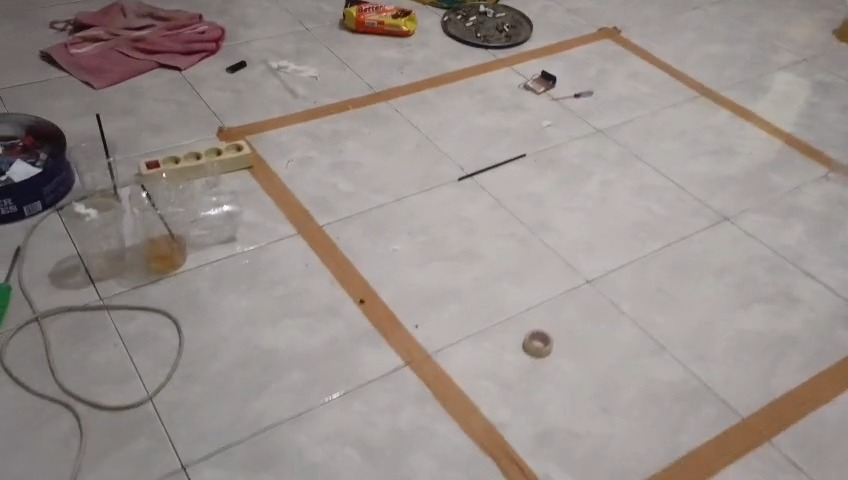floor marking: (252, 155, 537, 479), (217, 27, 773, 139), (650, 356, 847, 479), (766, 130, 823, 159)
